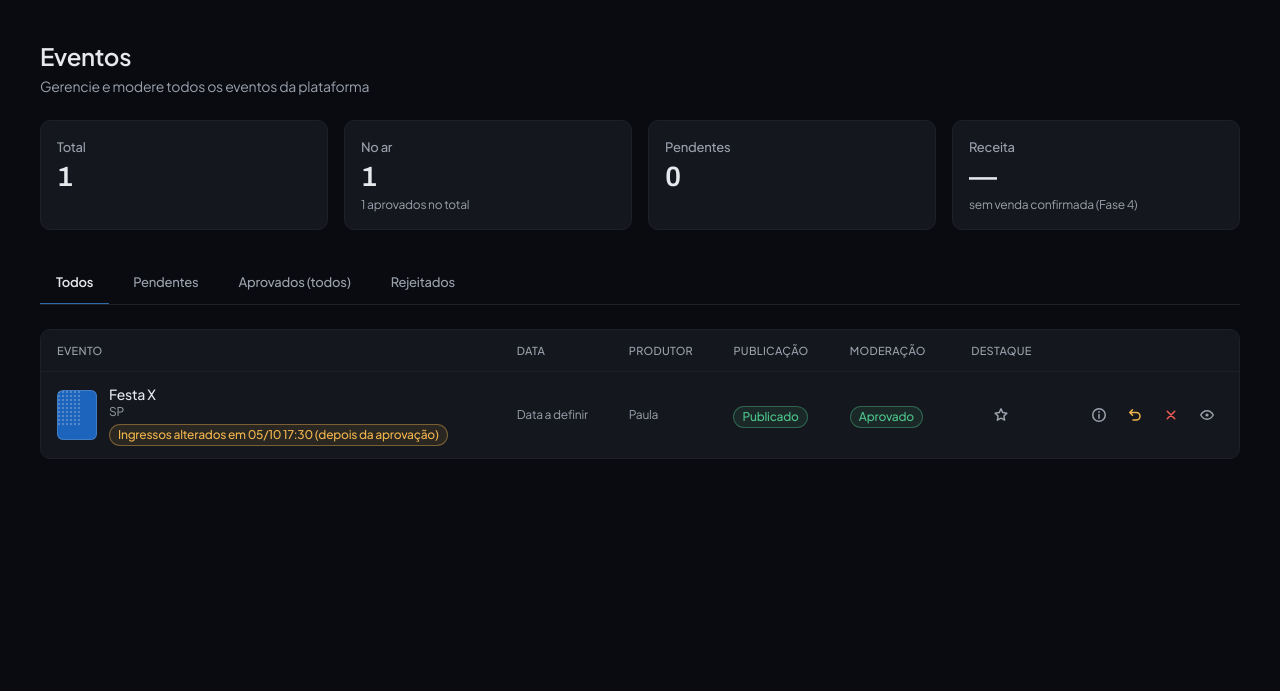
detalhe do evento na moderação (S8) › último aceite: versão, data e "hash confere"
Click the button named "Ver detalhes do evento" at (1099, 415), box [1083,399,1115,431]
(page scrolled)
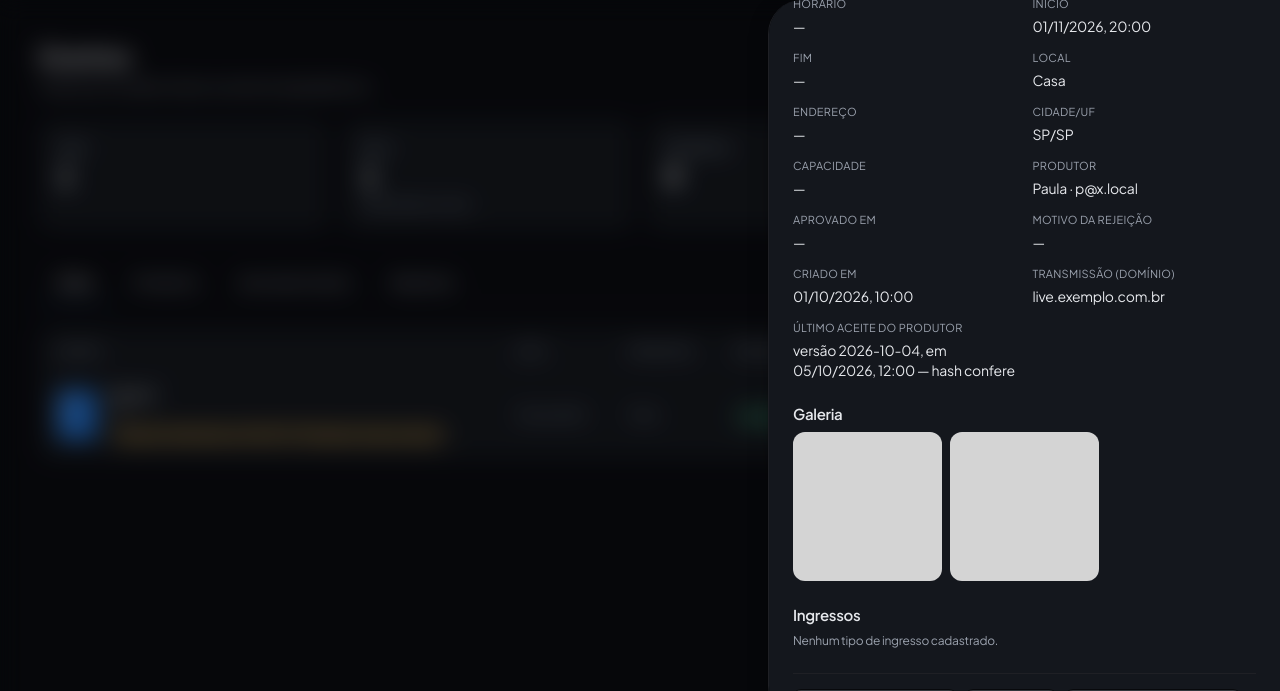
Expected: the text "versão 2026-10-04, em 05/10/2026, 12:00 — hash confere" is shown, [793,340,1016,380]
